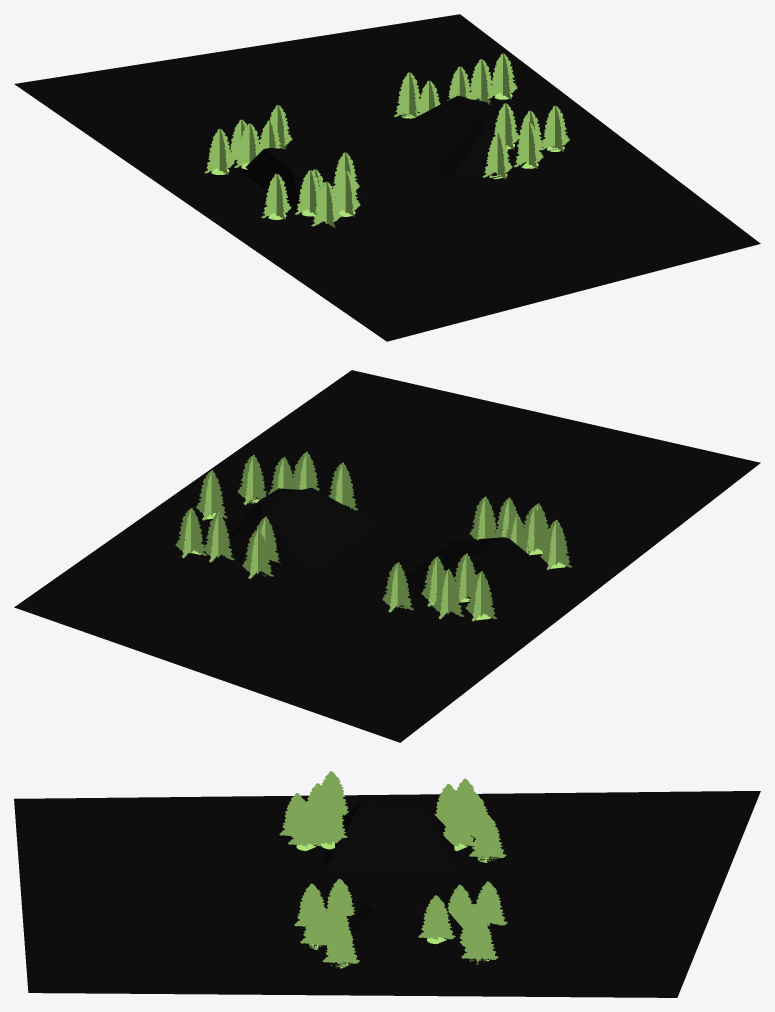
The model's file is bridge9_environment.obj.
The picture shows the model from 3 angles, top to bottom: view 1: azimuth 30°, elevation 25°; view 2: azimuth 150°, elevation 25°; view 3: azimuth 270°, elevation 25°; orthographic projection. The views are drawn at different scales.
Visible parts, largest first — view 1: mesh_0, mesh_2, mesh_1, mesh_3, mesh_17, mesh_19, mesh_14, mesh_13, mesh_5, mesh_12, mesh_21, mesh_9 (+2 smaller); view 2: mesh_0, mesh_3, mesh_2, mesh_9, mesh_1, mesh_8, mesh_19, mesh_13, mesh_4, mesh_20, mesh_11, mesh_21 (+4 smaller); view 3: mesh_0, mesh_1, mesh_8, mesh_19, mesh_9, mesh_11, mesh_5, mesh_6, mesh_13, mesh_17, mesh_16, mesh_18 (+8 smaller).
Boxes of the visible parts, x1,y1,x2,y2 form: mesh_0: [14, 14, 760, 341]; mesh_2: [204, 128, 234, 174]; mesh_1: [487, 53, 517, 99]; mesh_3: [261, 173, 291, 219]; mesh_17: [513, 122, 543, 168]; mesh_19: [541, 105, 569, 151]; mesh_14: [482, 133, 512, 179]; mesh_13: [394, 72, 420, 118]; mesh_5: [335, 170, 360, 216]; mesh_12: [311, 181, 340, 227]; mesh_21: [295, 170, 320, 216]; mesh_9: [470, 59, 493, 104]; mesh_0: [14, 370, 760, 742]; mesh_3: [540, 520, 572, 569]; mesh_2: [465, 571, 497, 621]; mesh_9: [175, 508, 206, 558]; mesh_1: [196, 470, 227, 520]; mesh_8: [382, 562, 413, 612]; mesh_19: [237, 455, 266, 504]; mesh_13: [242, 528, 273, 578]; mesh_4: [432, 569, 463, 619]; mesh_20: [204, 512, 234, 562]; mesh_11: [469, 496, 498, 540]; mesh_21: [523, 506, 545, 555]; mesh_0: [14, 791, 760, 997]; mesh_1: [418, 895, 455, 944]; mesh_8: [469, 814, 506, 862]; mesh_19: [322, 919, 359, 968]; mesh_9: [461, 916, 498, 964]; mesh_11: [312, 800, 347, 849]; mesh_5: [288, 802, 321, 850]; mesh_6: [443, 802, 475, 850]; mesh_13: [475, 881, 507, 927]; mesh_17: [300, 901, 327, 949]; mesh_16: [326, 878, 355, 915]; mesh_18: [447, 884, 472, 926].
Bounding box in the file's own units: 119 × 17.77 × 182.
